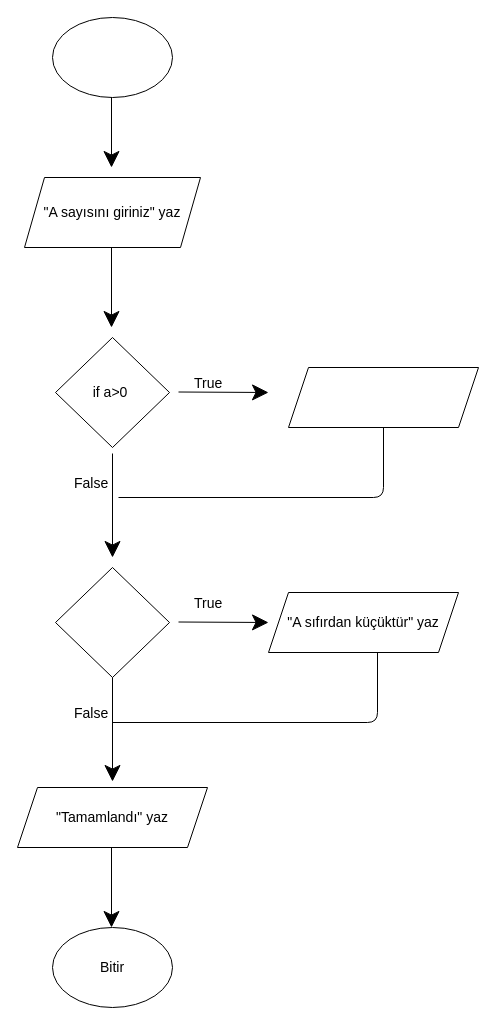
Some shapes in this 496 by 1025 pixel diagram are drawn without their labels. The centre of each missing label's shape, as x and y in pixels:
"A sıfırdan büyüktür" yaz: (383,397)
Başla: (112,57)
if a<0: (112,622)
